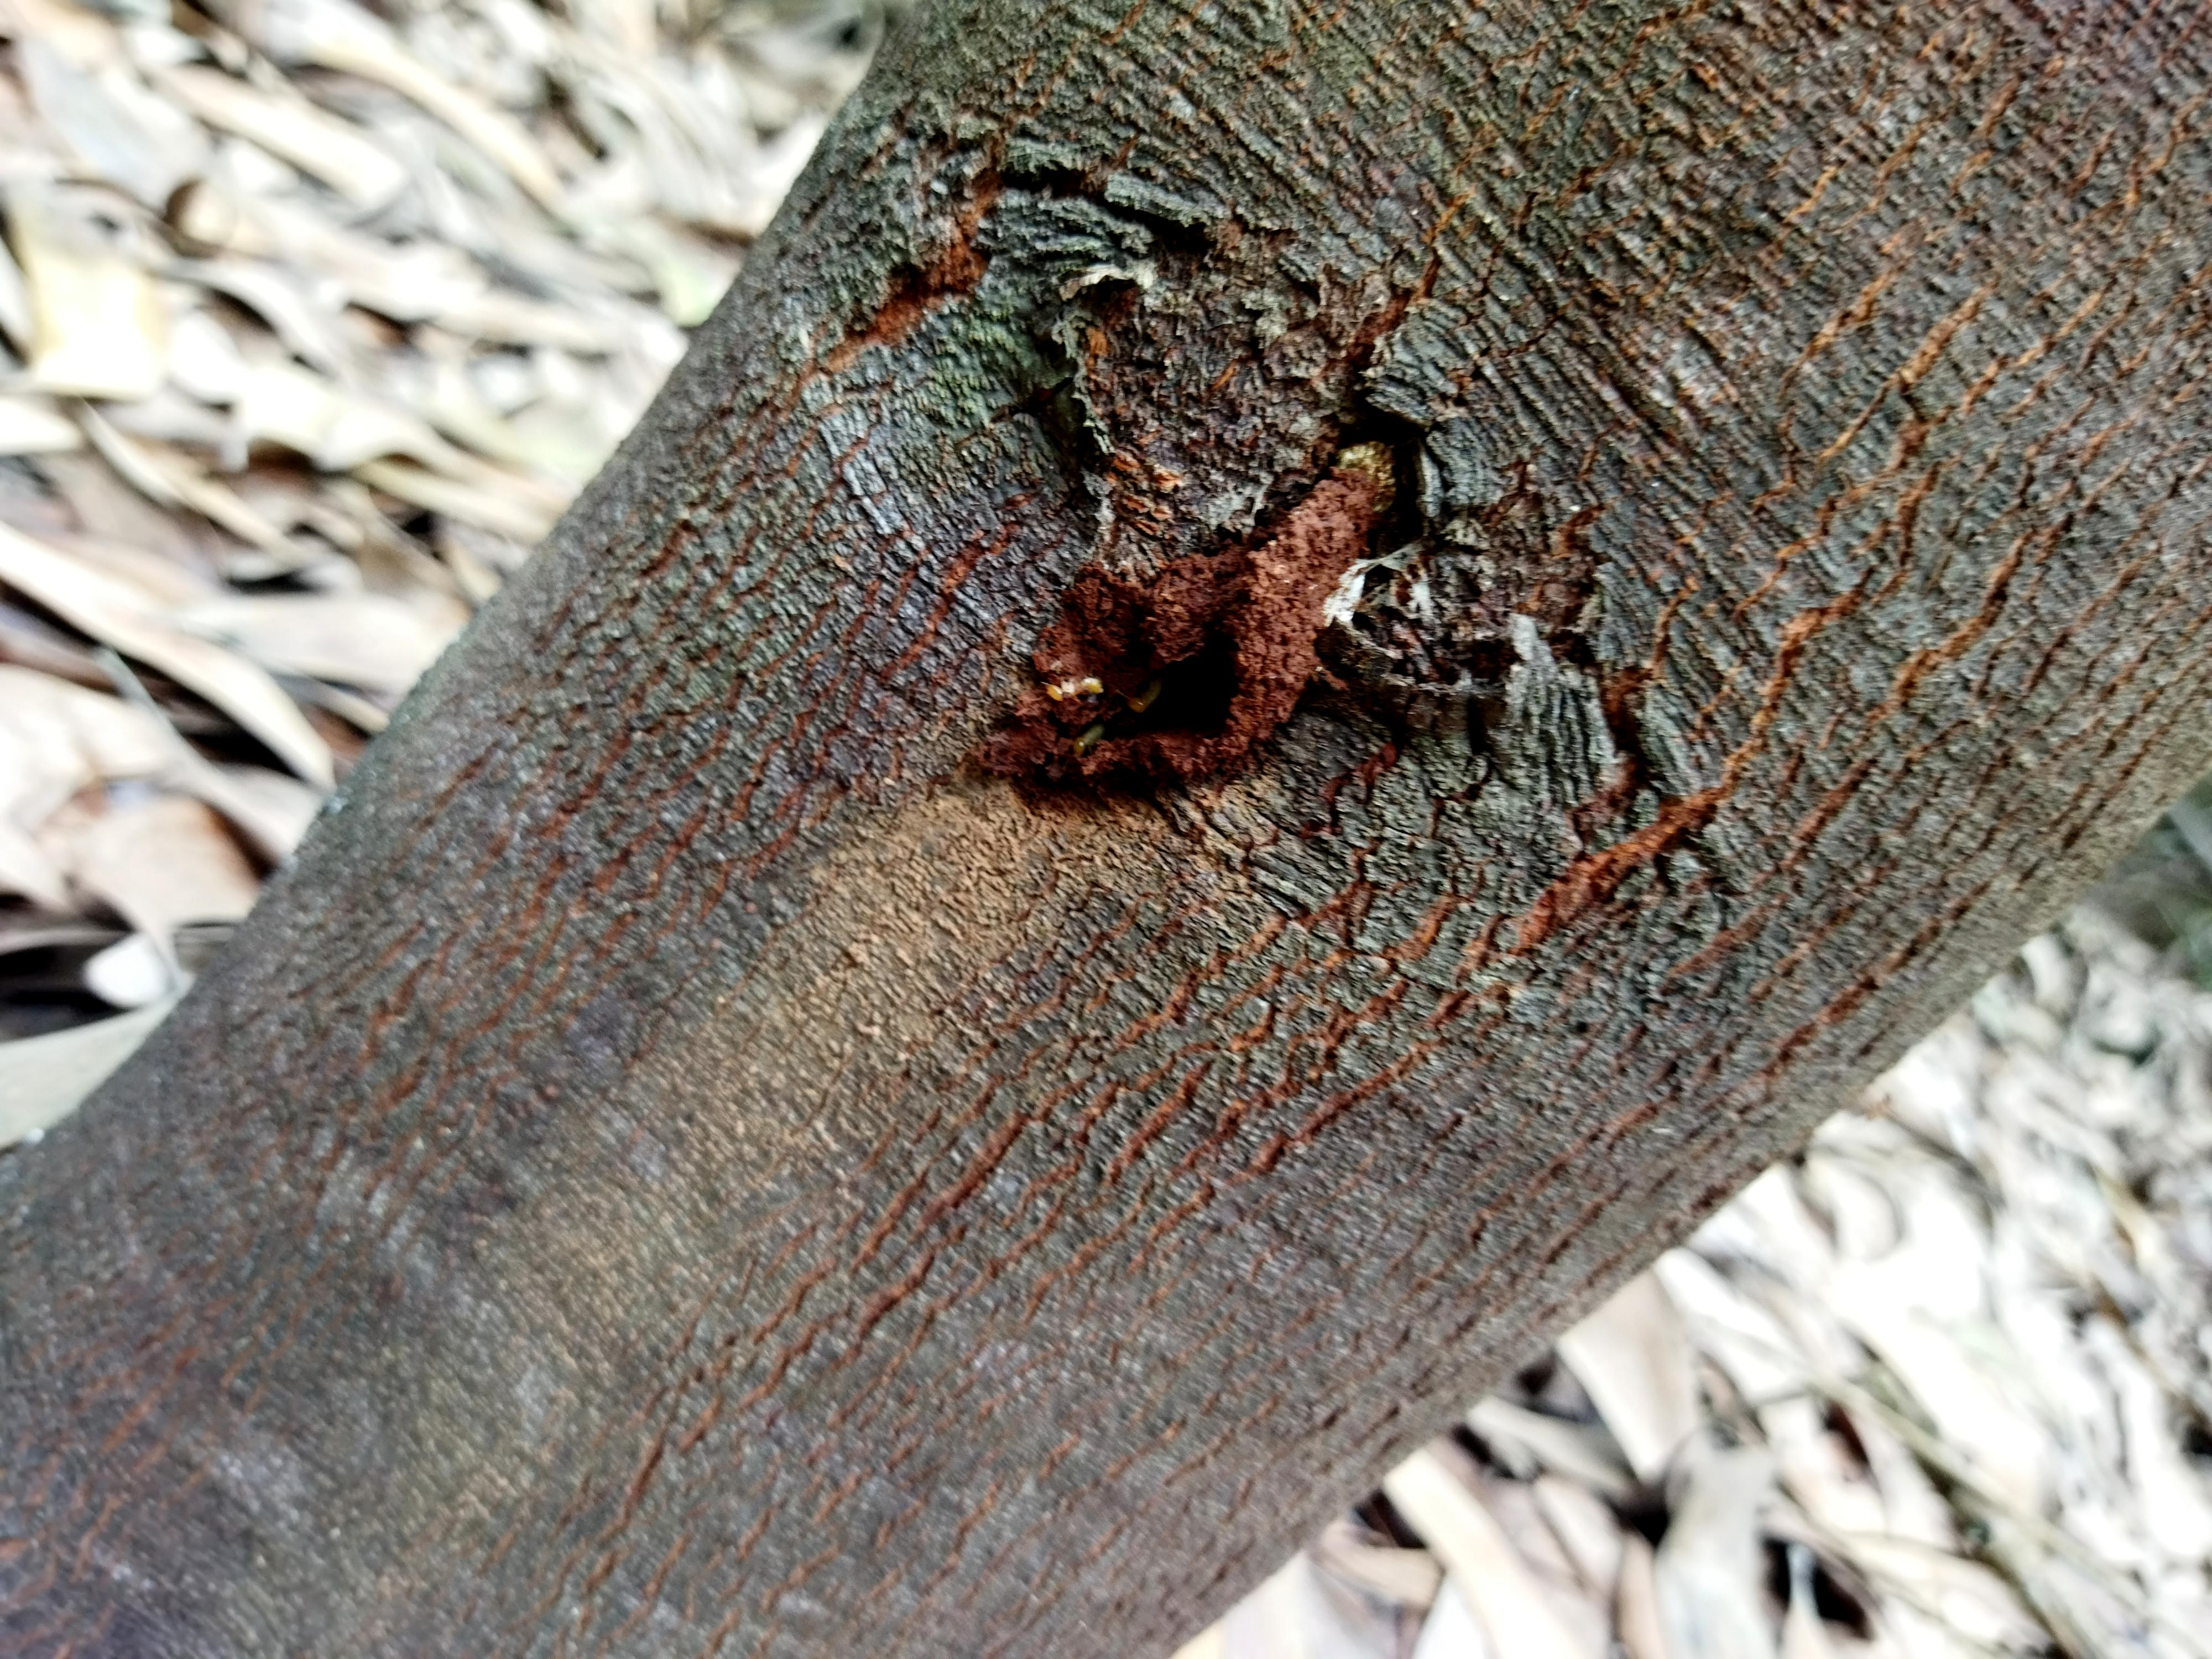Termite - Nest: (1024, 399, 1428, 847)
